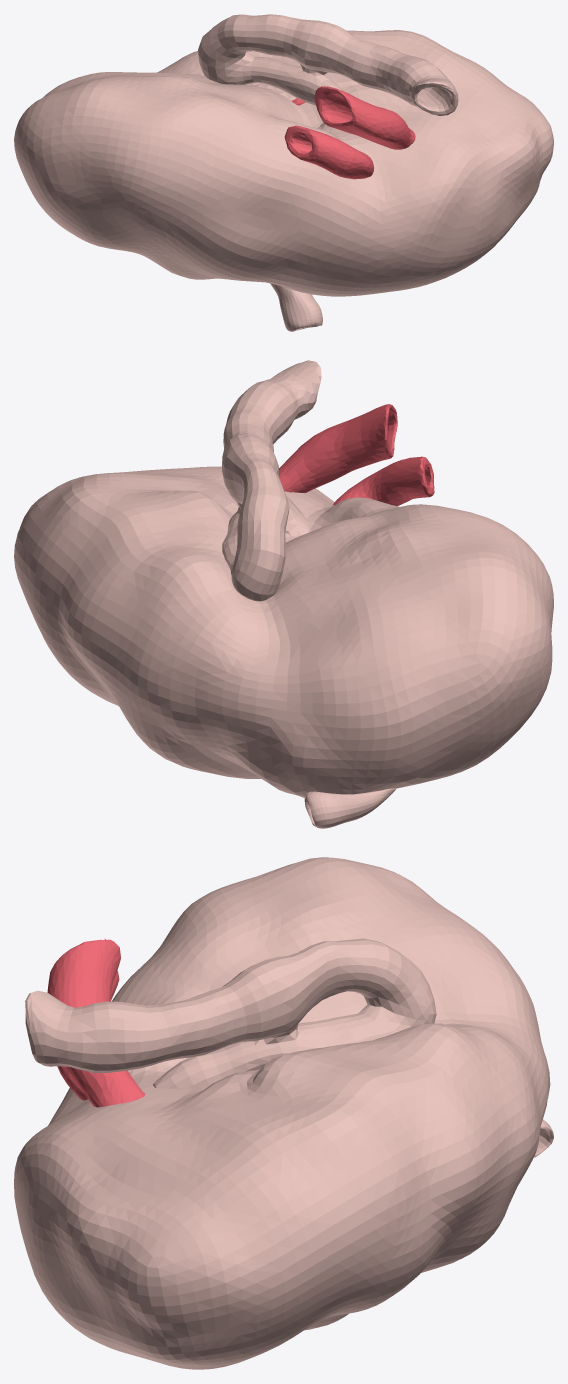
Rendered from NIH_M_Lymph_Node_0.8.glb.
3 views of the same model, one above another, from view 1: azimuth 30°, elevation 25°; view 2: azimuth 150°, elevation 25°; view 3: azimuth 270°, elevation 25° (orthographic). The views are drawn at different scales.
Visible parts, largest first — view 1: Yao_capsule_of_lymph_node, Yao_efferent_lymph_node, Yao_blood_vasculature, Yao_afferent_lymphatic_vessel; view 2: Yao_capsule_of_lymph_node, Yao_efferent_lymph_node, Yao_blood_vasculature, Yao_afferent_lymphatic_vessel; view 3: Yao_capsule_of_lymph_node, Yao_efferent_lymph_node, Yao_blood_vasculature.
Part boxes in pixels (bbox=[...]): Yao_capsule_of_lymph_node: bbox=[14, 30, 553, 296]; Yao_efferent_lymph_node: bbox=[198, 14, 458, 132]; Yao_blood_vasculature: bbox=[284, 86, 415, 179]; Yao_afferent_lymphatic_vessel: bbox=[270, 283, 322, 331]; Yao_capsule_of_lymph_node: bbox=[14, 466, 553, 797]; Yao_efferent_lymph_node: bbox=[222, 360, 321, 601]; Yao_blood_vasculature: bbox=[279, 404, 434, 506]; Yao_afferent_lymphatic_vessel: bbox=[304, 788, 396, 828]; Yao_capsule_of_lymph_node: bbox=[14, 857, 550, 1369]; Yao_efferent_lymph_node: bbox=[25, 938, 436, 1088]; Yao_blood_vasculature: bbox=[47, 939, 145, 1107].
Bounding box in the file's own units: 0.0183 × 0.0107 × 0.013.
